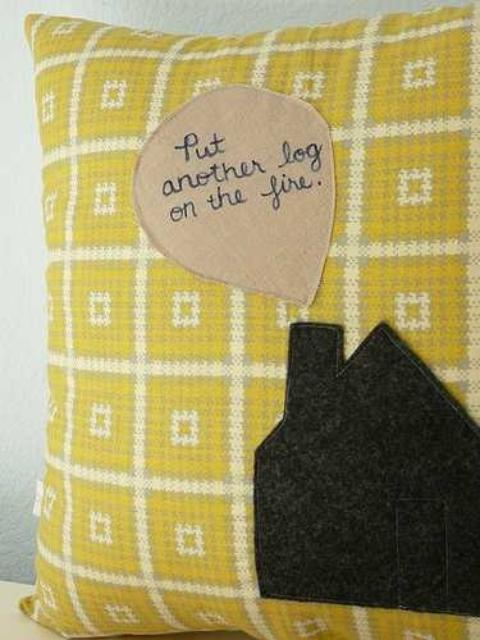pillow: (18, 1, 478, 638)
